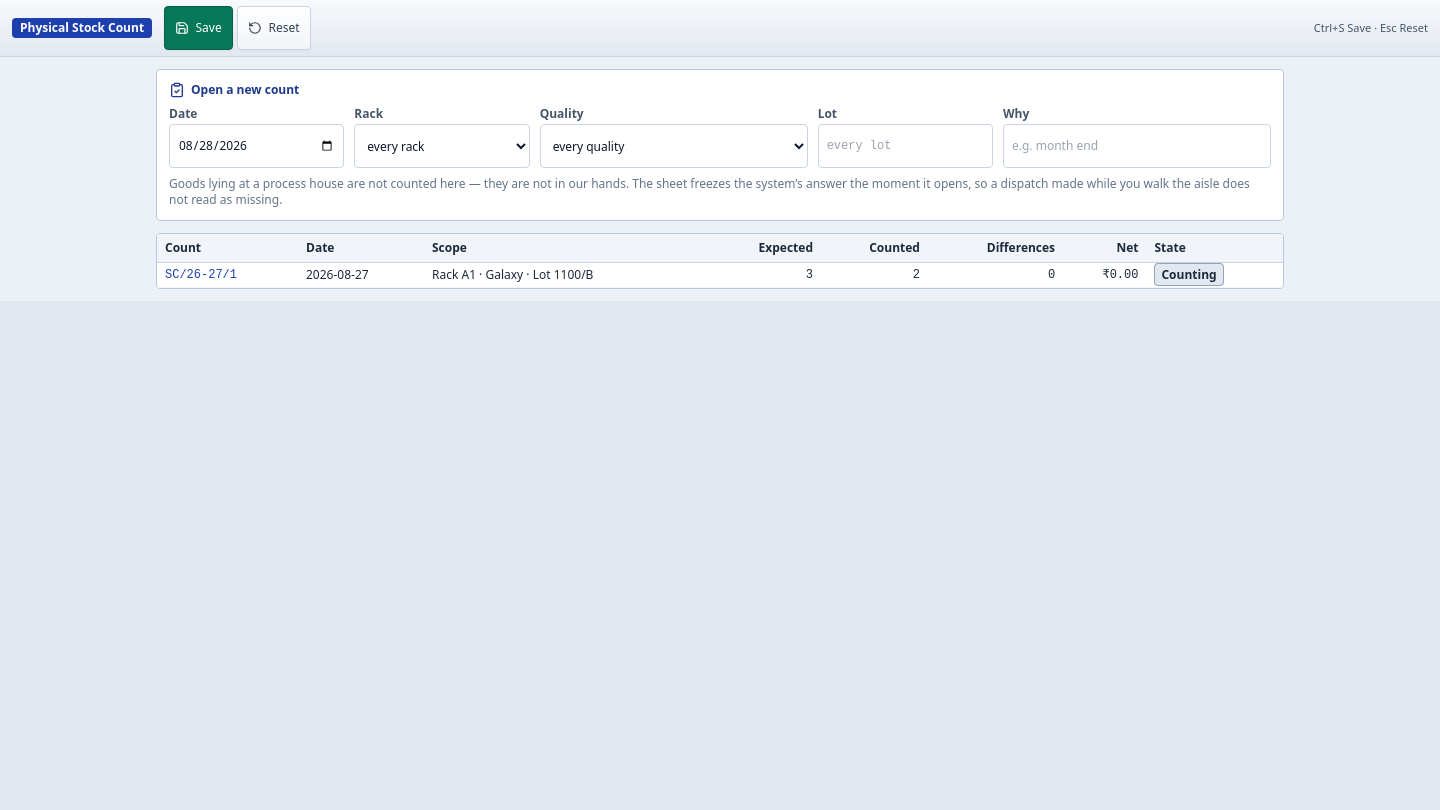
answering the differences › every difference is shown with what the books and the floor say
What coordinates should you click on to do the following:
click the text "SC/26-27/1"
I would click on:
 (228, 275)
Its box is [157,262,298,288].
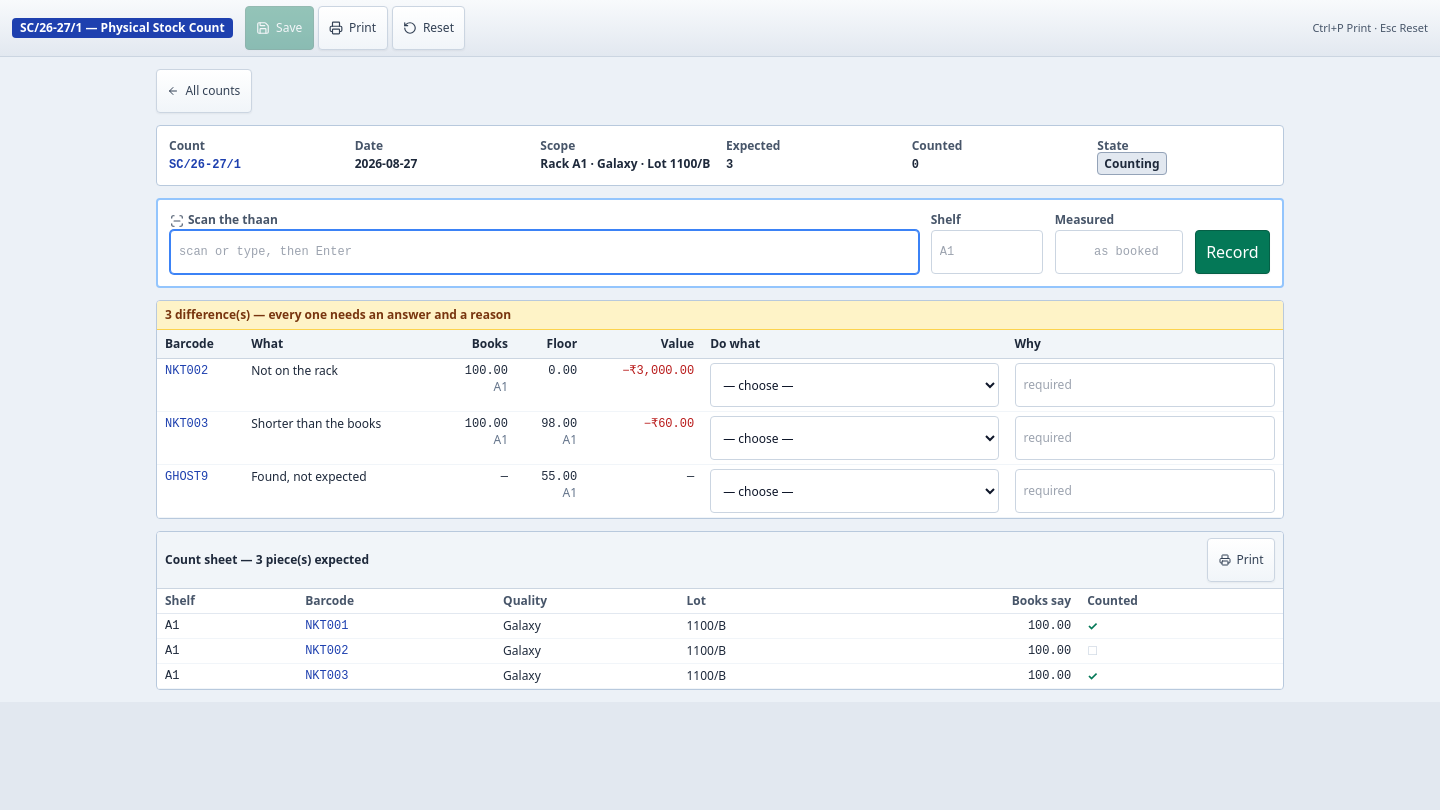
Expected: the field labelled "Scan the thaan" is shown, [170,230,919,274]
Expected: the text "3 difference(s) — every one needs an answer and a reason" is shown, [157,301,1283,330]
Expected: the text "Not on the rack" is shown, [243,358,437,412]
